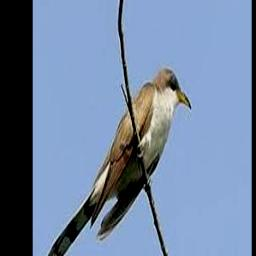Cuckoo: (45, 69, 190, 256)
